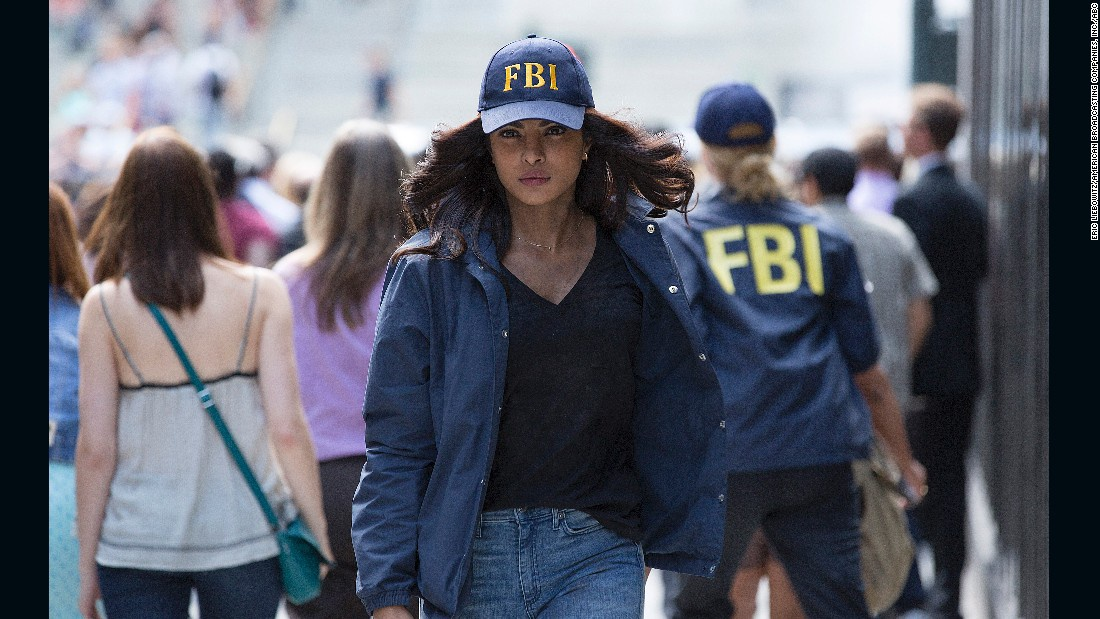bad: (494, 116, 583, 206)
